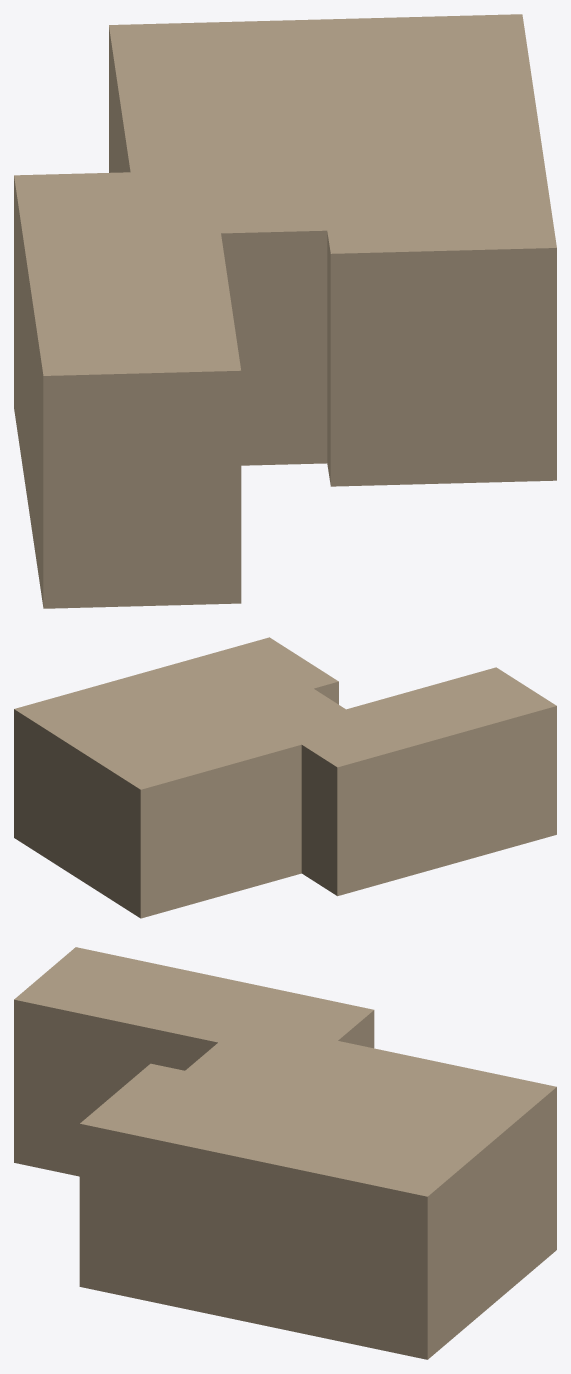
File: bld_101374664.dae
3 views of the same model, one above another, from view 1: azimuth 30°, elevation 25°; view 2: azimuth 150°, elevation 25°; view 3: azimuth 270°, elevation 25° (orthographic). The views are drawn at different scales.
Parts seen in each view (by area): view 1: bld_101374664; view 2: bld_101374664; view 3: bld_101374664.
Part boxes in pixels (x1=…): bld_101374664: x1=14, y1=14, x2=556, y2=608; bld_101374664: x1=14, y1=637, x2=556, y2=918; bld_101374664: x1=14, y1=947, x2=556, y2=1359.
Bounding box in the file's own units: 26.25 × 24.13 × 8.
